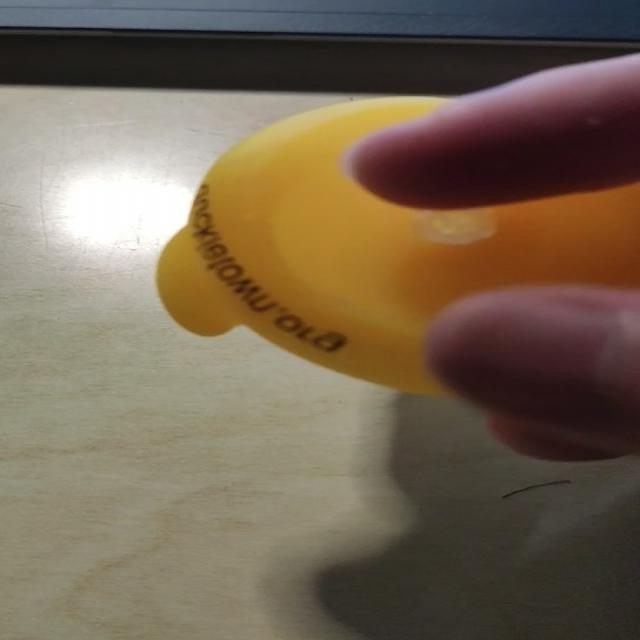rubber-duck: (155, 96, 638, 391)
